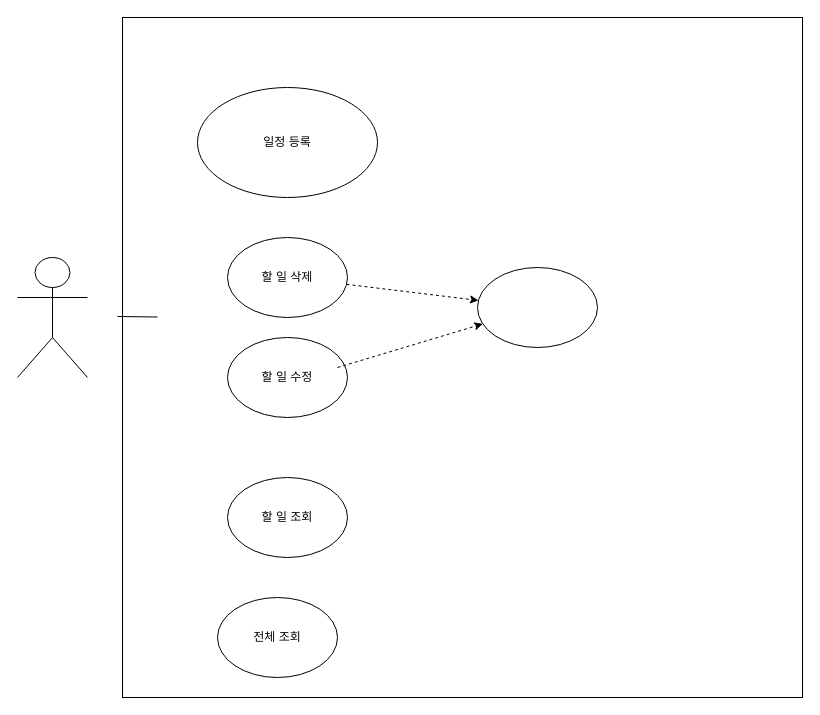
Image size: 820x715. Some labels were removed from this diagram. Each missing label, with the box of its shape:
Actor: (16, 256, 88, 378)
비밀번호 인증: (476, 266, 598, 348)
